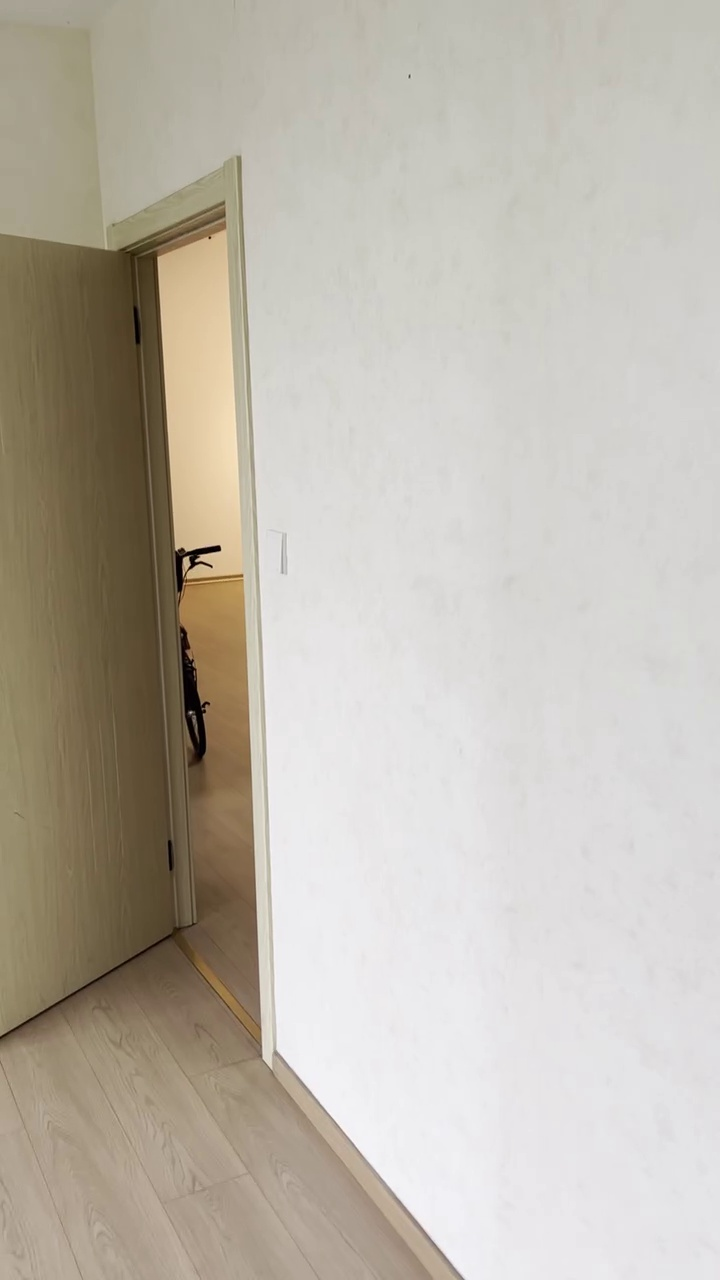button: (263, 528, 288, 578)
